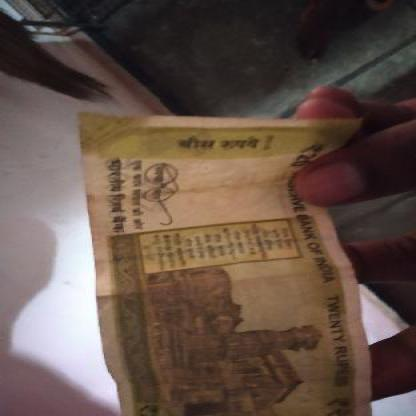New20Back: (78, 111, 382, 415)
